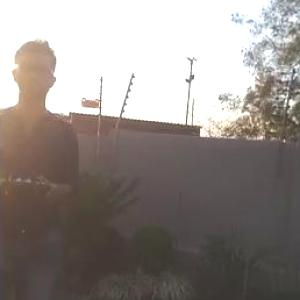follow: (0, 29, 84, 299)
